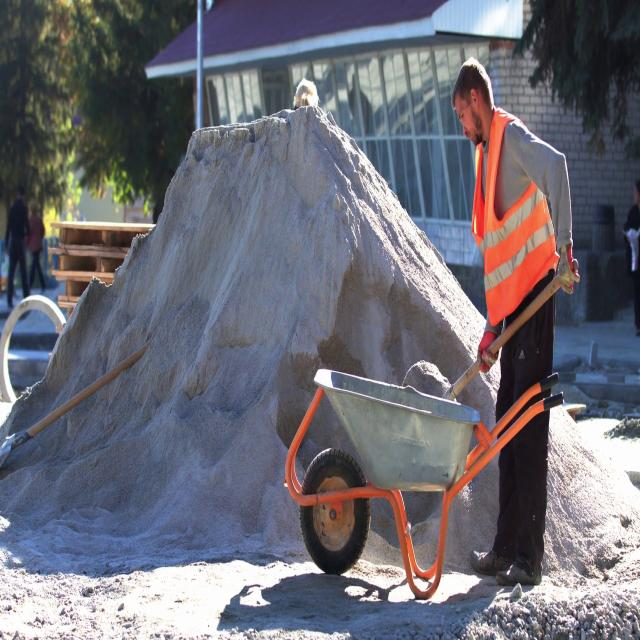gloved: (556, 243, 580, 294), (476, 330, 498, 373)
